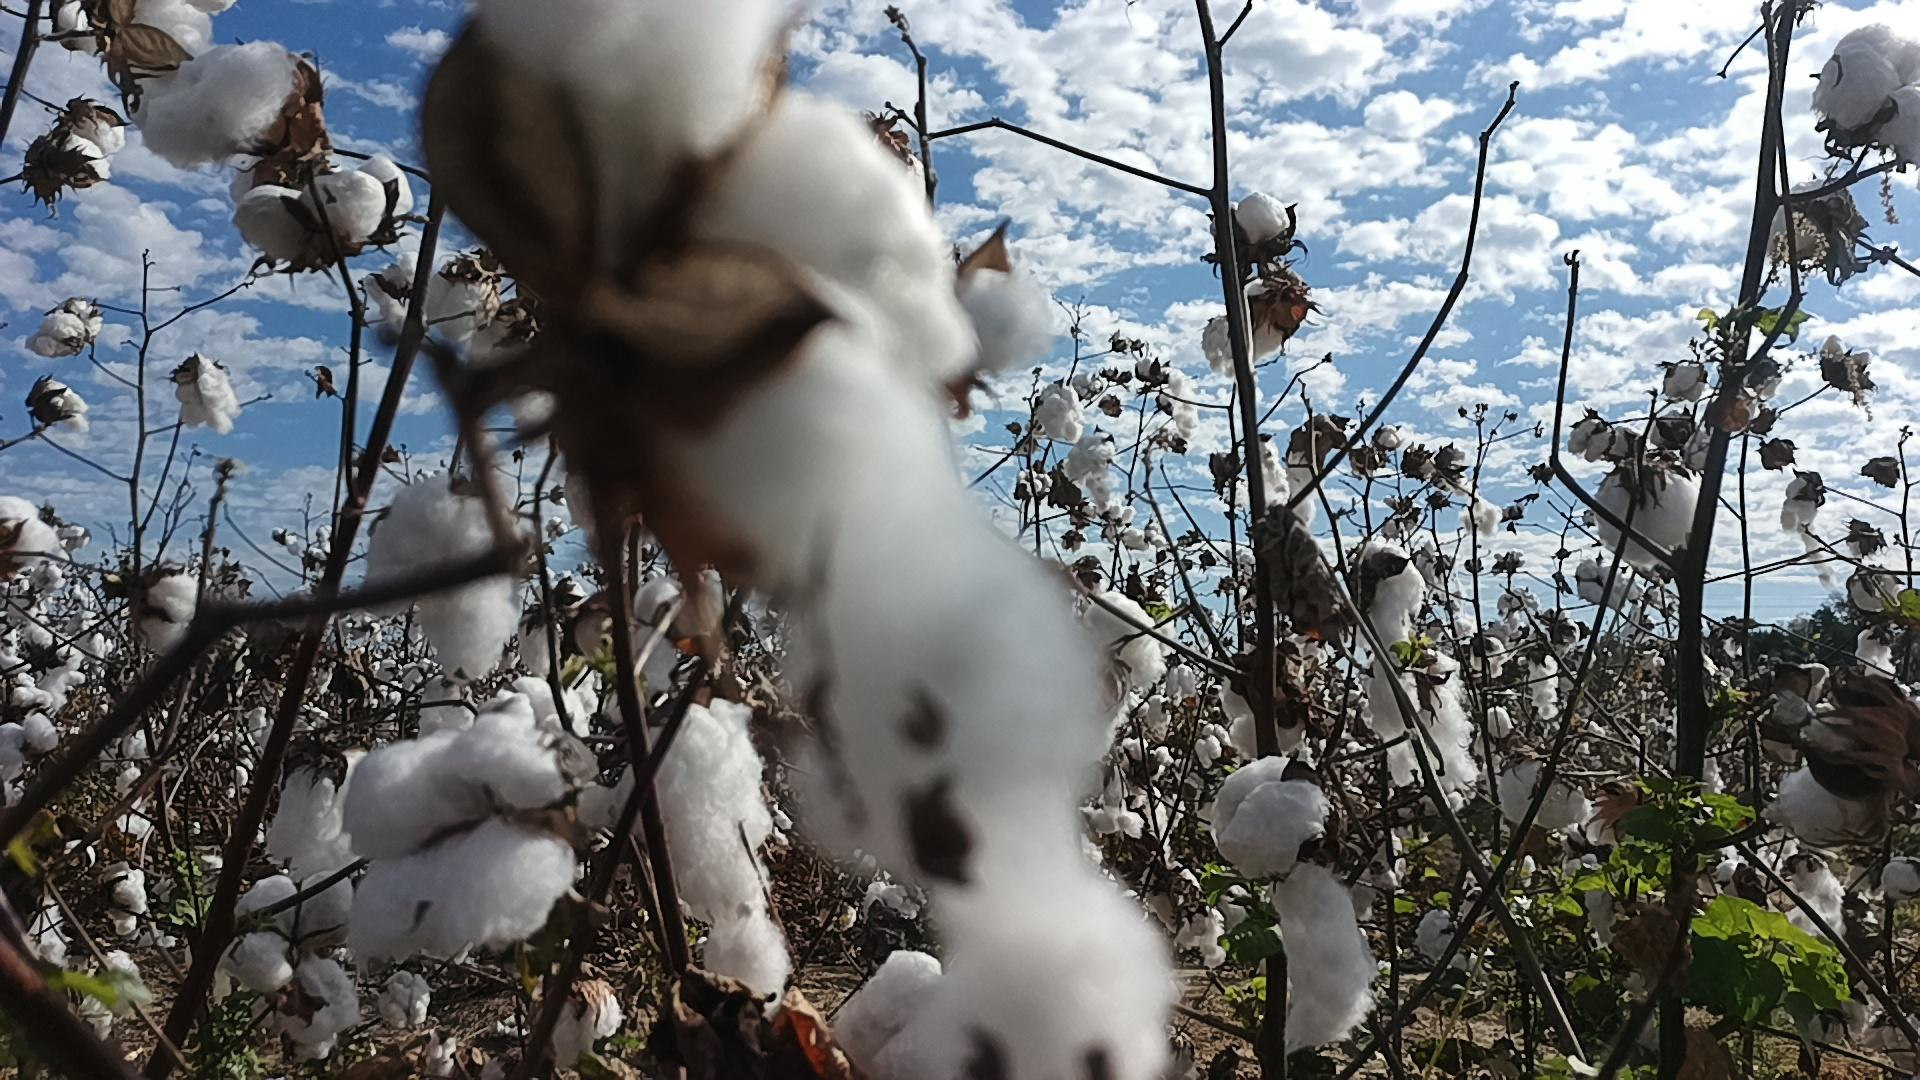cotton_ready: (476, 0, 973, 600), (780, 513, 1170, 1080), (616, 701, 795, 1021), (344, 716, 578, 959), (1208, 758, 1376, 1051), (366, 475, 525, 688), (232, 871, 364, 1046), (478, 676, 616, 827), (142, 38, 298, 165), (232, 148, 415, 255), (1074, 596, 1166, 805), (832, 945, 963, 1080), (1370, 646, 1478, 791), (1776, 733, 1902, 851), (262, 743, 368, 881), (1818, 25, 1920, 166), (948, 263, 1063, 379), (118, 0, 234, 113), (634, 566, 736, 693), (520, 583, 600, 737), (1594, 460, 1703, 569), (1204, 273, 1308, 377), (472, 311, 556, 436), (1352, 538, 1425, 651), (1222, 666, 1310, 757), (540, 978, 626, 1071), (1496, 759, 1590, 835), (1770, 179, 1856, 260), (424, 250, 498, 341), (0, 497, 60, 588), (136, 570, 200, 655), (1210, 193, 1300, 251), (174, 361, 243, 436), (23, 297, 104, 358), (26, 133, 108, 191), (34, 379, 93, 436), (56, 0, 106, 56), (64, 107, 128, 150)
